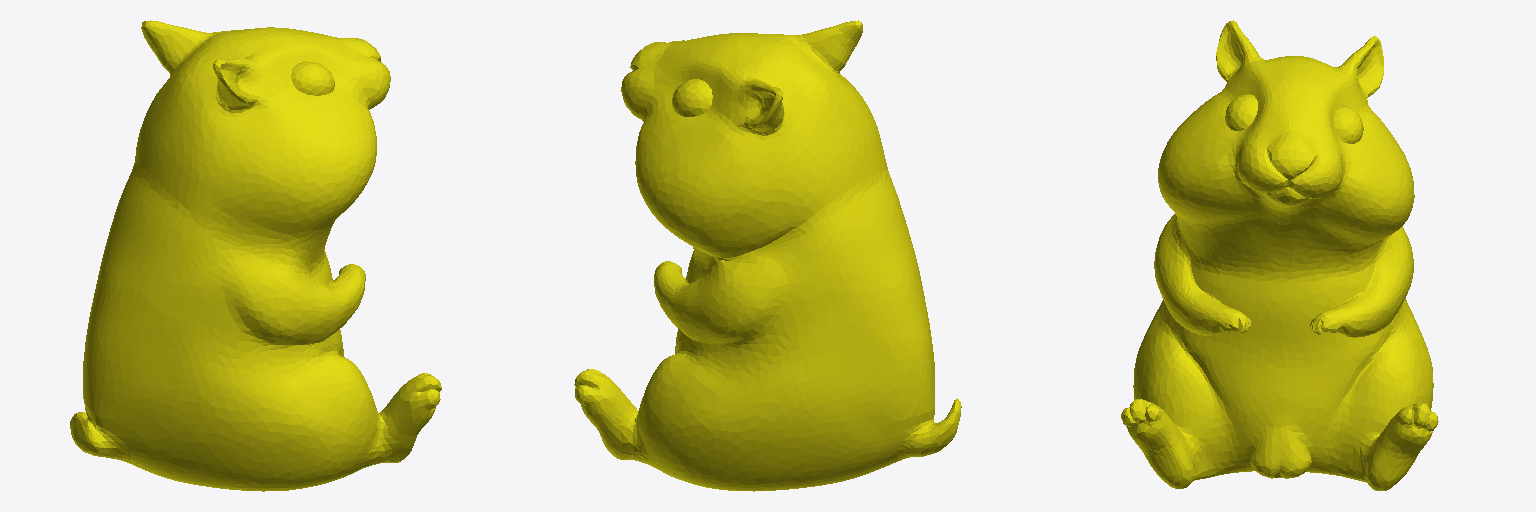
robot.urdf — payload:
<?xml version="1.0"?>
<robot name="payload">
  <link name="sphere">
    <visual>
      <origin rpy="0 0 1.54" xyz="0 0 -0.05" />
      <geometry>
        <mesh filename="package://eagle_mpc_viz/description/hamster-father-fmd.dae" scale="0.002 0.002 0.002" />
      </geometry>
      <material name="">
        <color rgba="0.8902 0.8627 0.0980 1"/>
      </material>
    </visual>
    <!-- <visual>
      <geometry>
        <sphere radius="0.025"/>
      </geometry>
      <material name="yellow">
            <color rgba="0.8902 0.8627 0.0980 1"/>
      </material>
    </visual> -->
  </link>
</robot>

--- Facts derived from the render (not from the file) ---
The picture shows the robot from 3 angles, left to right: view 1: azimuth 30°, elevation 25°; view 2: azimuth 150°, elevation 25°; view 3: azimuth 270°, elevation 25°; orthographic projection.
Model payload with 1 links and 0 joints (none), rooted at sphere, posed all joints at 0.
Visible links, largest first — view 1: sphere; view 2: sphere; view 3: sphere.
Link boxes in pixels (x1,y1,x2,y2): sphere: (70,20,441,491); sphere: (574,20,961,491); sphere: (1121,20,1438,490).
Size in the robot's own frame: 0.1021 by 0.093 by 0.1304 metres.
1 mesh visuals loaded from 1 distinct referenced files (1 Collada DAE).
